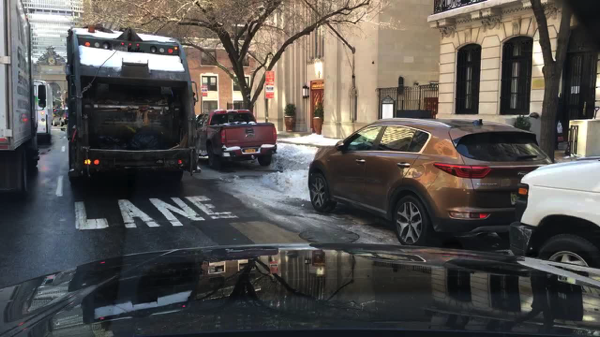bus: (36, 81, 55, 145)
car: (308, 118, 551, 246), (507, 155, 599, 268), (52, 113, 68, 128)
traffic sign: (264, 71, 275, 99), (200, 85, 208, 97)
truck: (65, 23, 201, 184), (0, 2, 46, 202), (196, 108, 277, 169)
